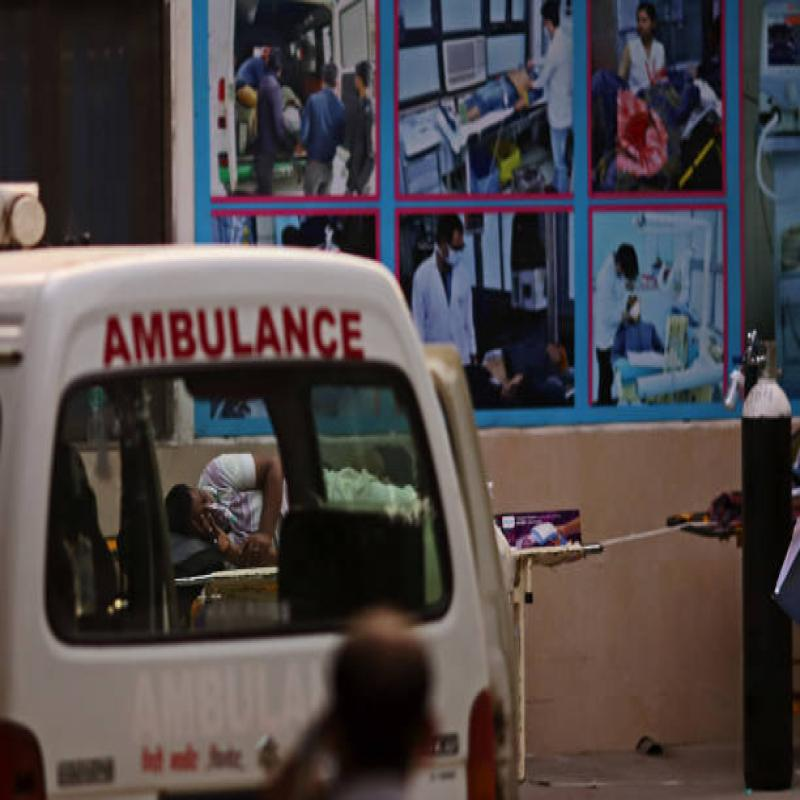ambulance: (0, 251, 513, 800)
